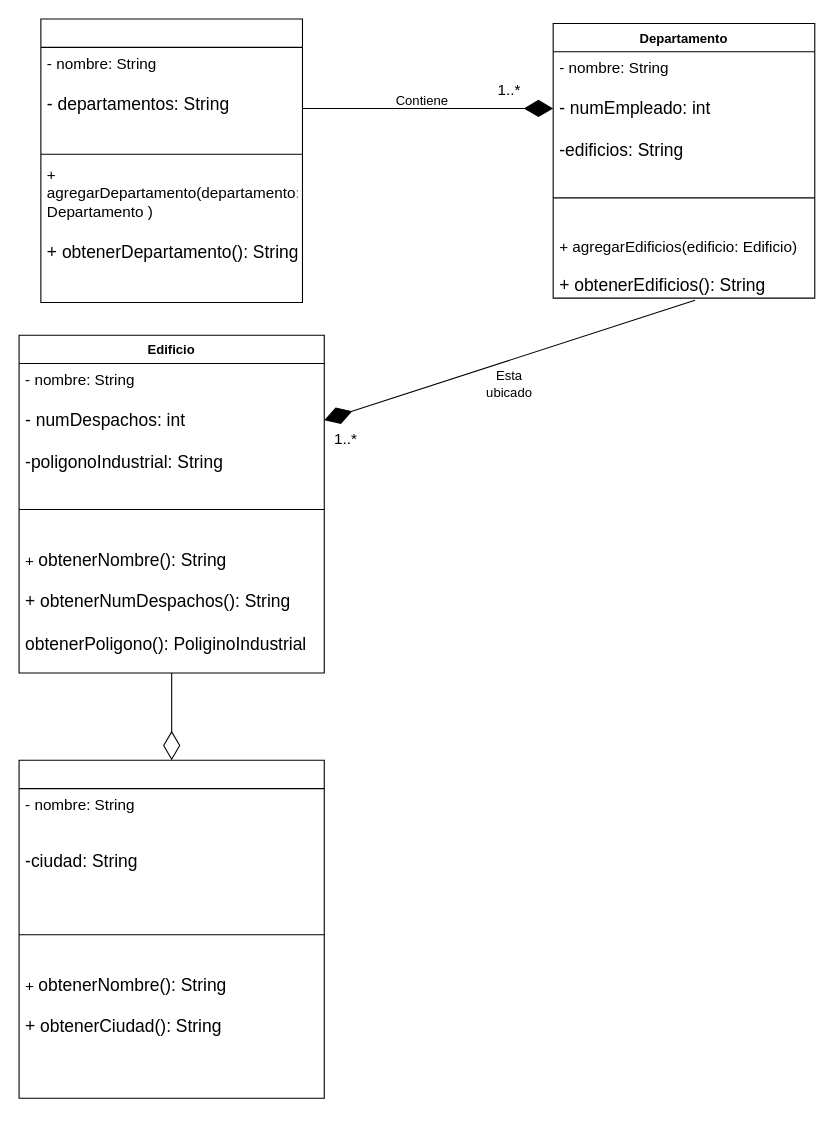
This 834x1121 diagram has some shape labels left out. Here are the shapes that lost their labels. From the top down, the box of each, then its label:
(40, 18, 302, 302): Empresa
(18, 759, 324, 1098): PoligonoIndustrial
